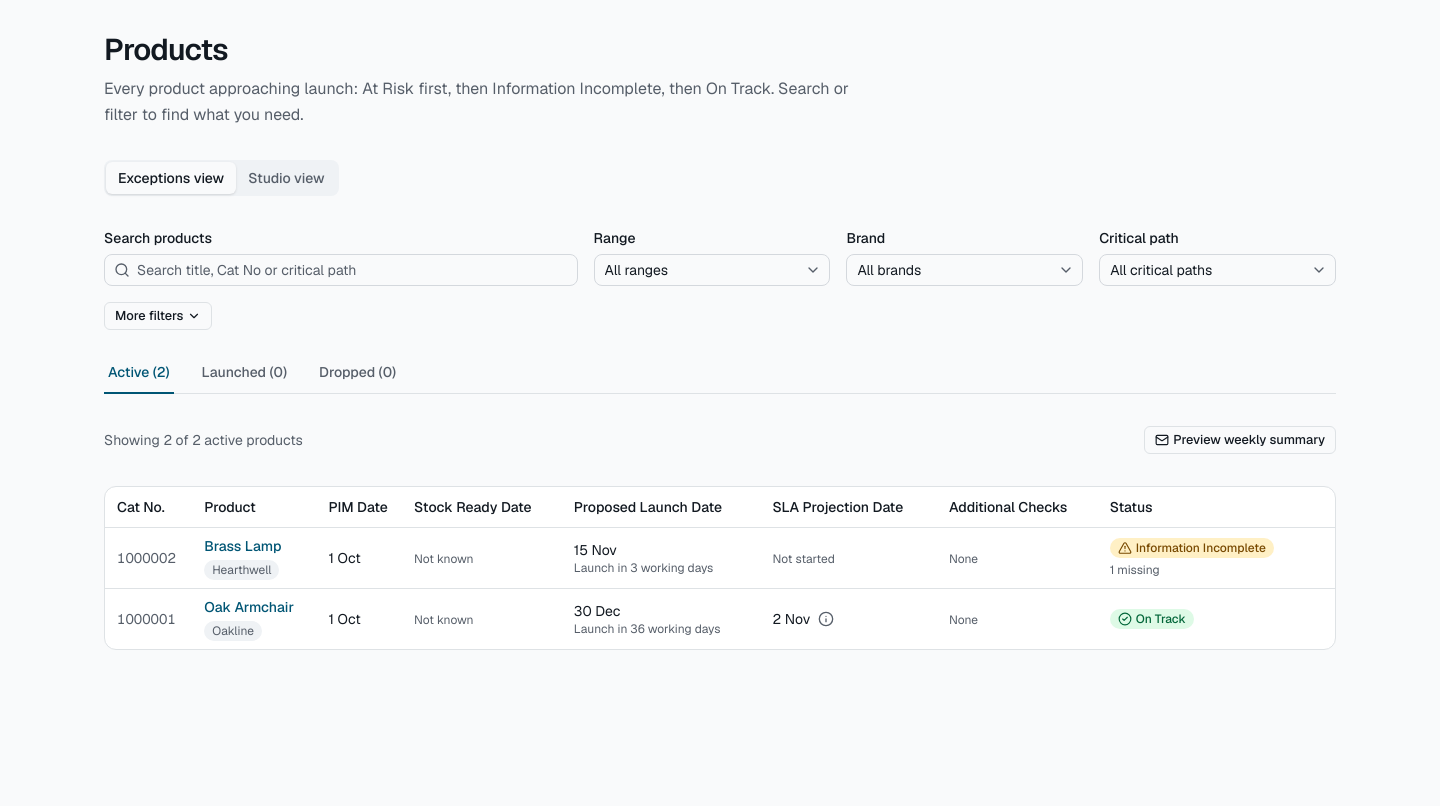
Test: ProductsView › clears just the search with the x button
Type "lamp" into the search field labelled "Search products" at (341, 270), box [104, 254, 578, 286]
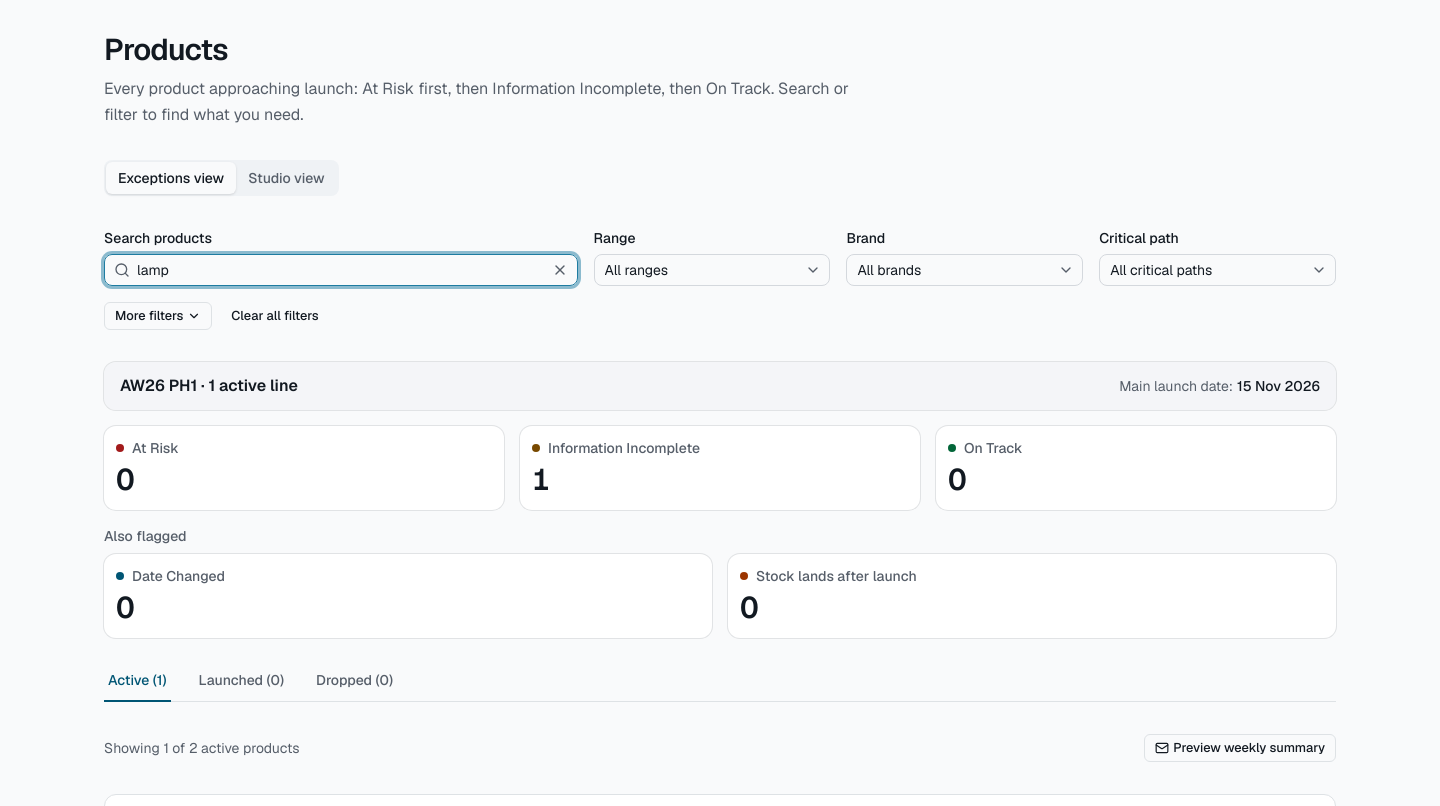
Click the button named "Clear search" at (560, 270), box [548, 258, 572, 282]
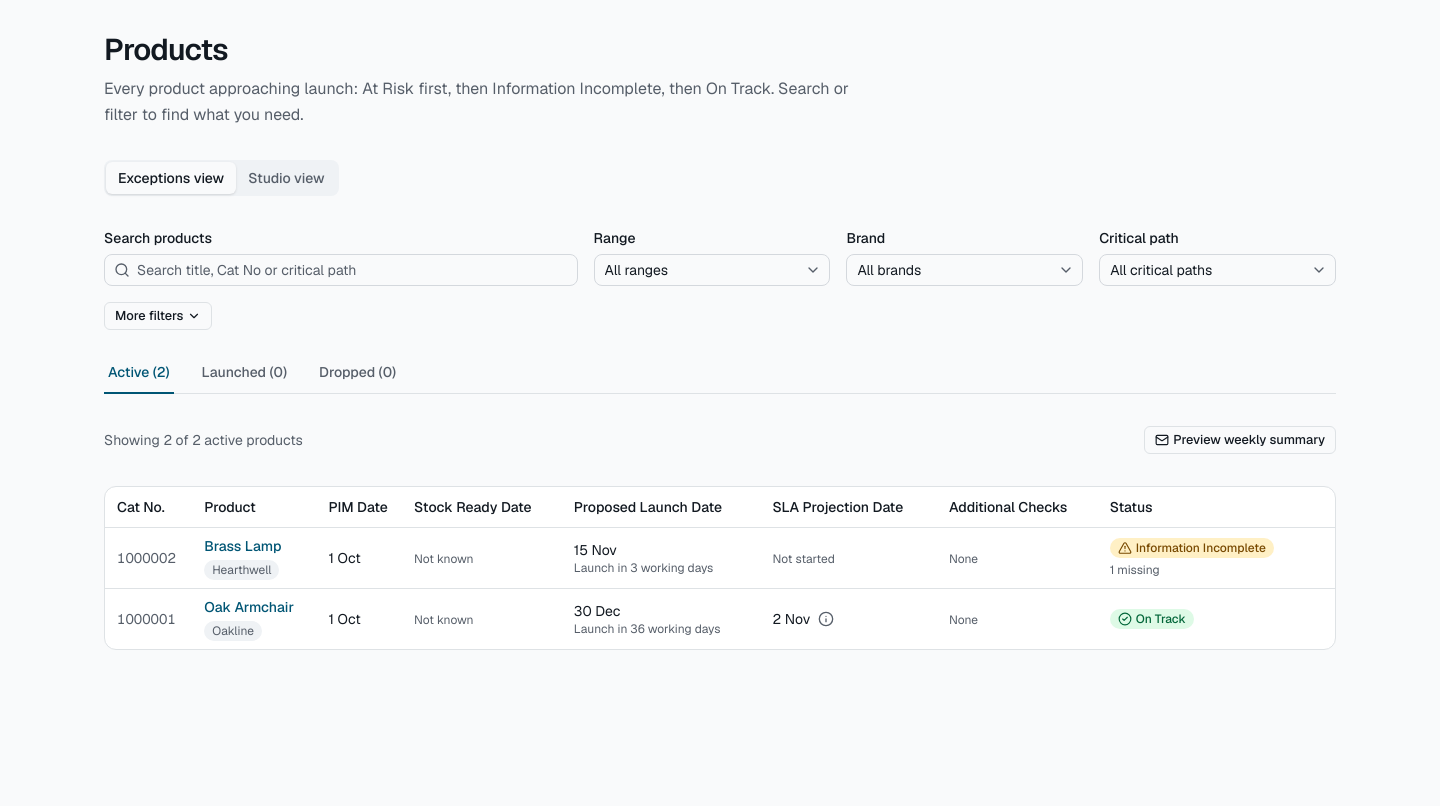
Result: the search field labelled "Search products" is empty at [104, 254, 578, 286]
Result: the text "Showing 2 of 2 active products" is shown at [104, 430, 303, 450]
